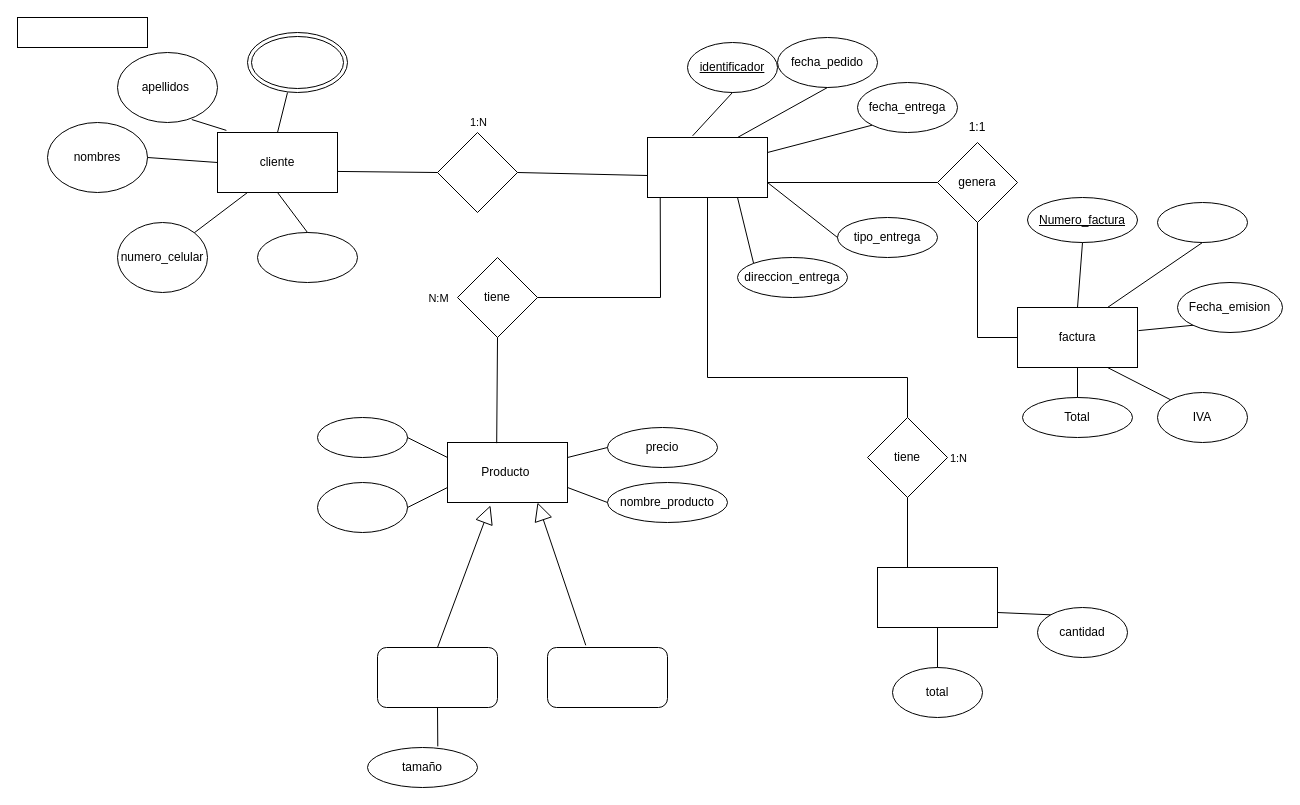
Some shapes in this 1300 by 805 pixel diagram are drawn without their labels. Each missing label, with the centre of its shape:
"cedula" goes at [307,257].
"Detalle_pedido" goes at [937,597].
"direccion" goes at [297,62].
"id_producto" goes at [362,507].
"Jose Salazar" goes at [82,32].
"Keyes" goes at [437,677].
"Muffin" goes at [607,677].
"Pedido" goes at [707,167].
"realiza" goes at [477,172].
"sabor" goes at [362,437].
"subtotal" goes at [1202,222].
